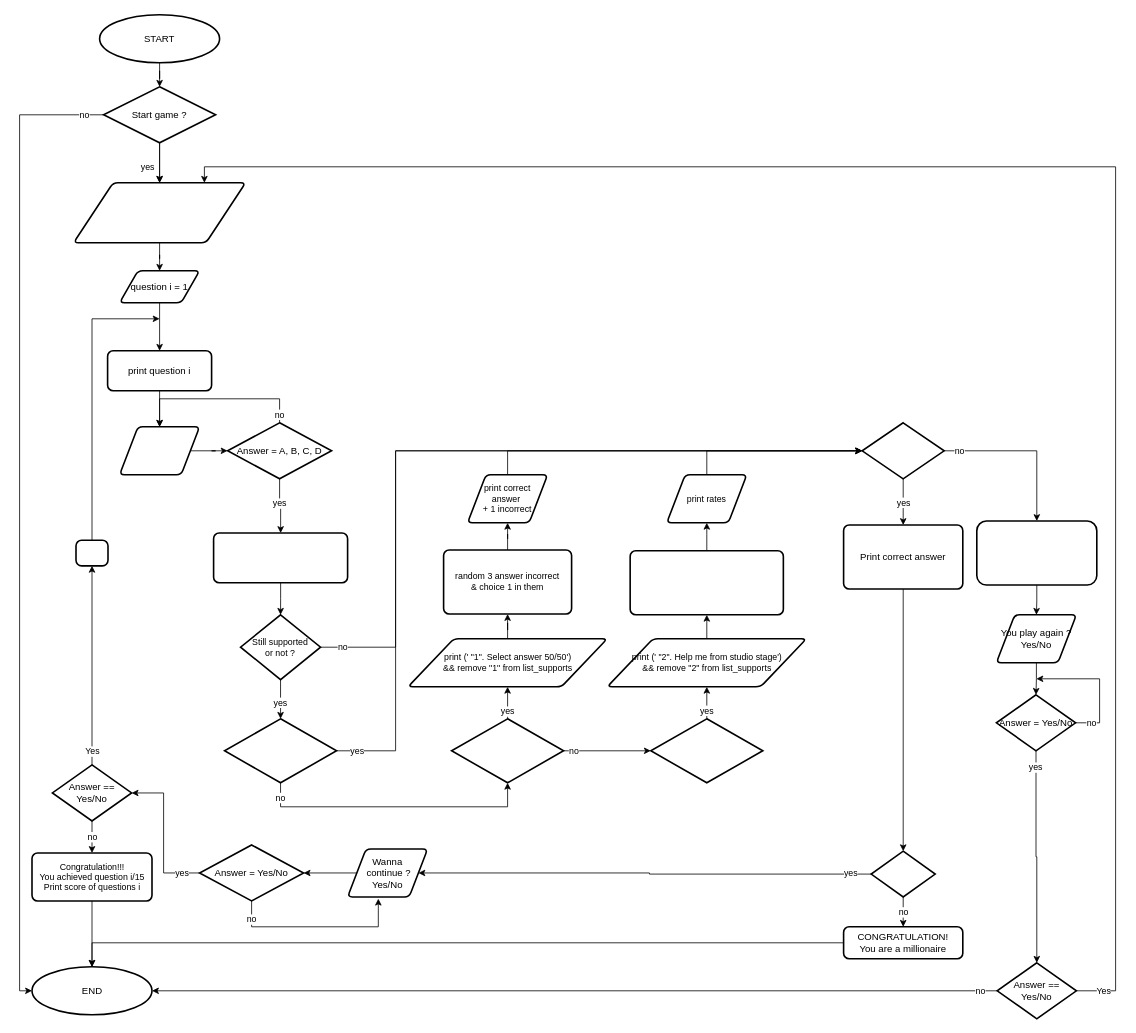
Image size: 1136x1033. Some labels were removed from this diagram. The shapes that lost their labels are listed below. From the top down, each one's centre as x and y in pixels, then its label:
the point at 159,212: input = Set includes random 15/30 question output = Answer A, B, C, D
the point at 159,450: Input answer of you
the point at 903,450: Answer to Question i ?
the point at 91,552: i +=1
the point at 280,557: list_supports = ["0", "1", "2"]
the point at 1036,552: You gave the wrong Wish you luck next time!
the point at 706,582: Choice the best rate is correct answer & random rates for 3 incorrect
the point at 280,750: Select support ="0"
the point at 507,750: Select support ="1"
the point at 706,750: Select support ="2"
the point at 903,873: i < 15
